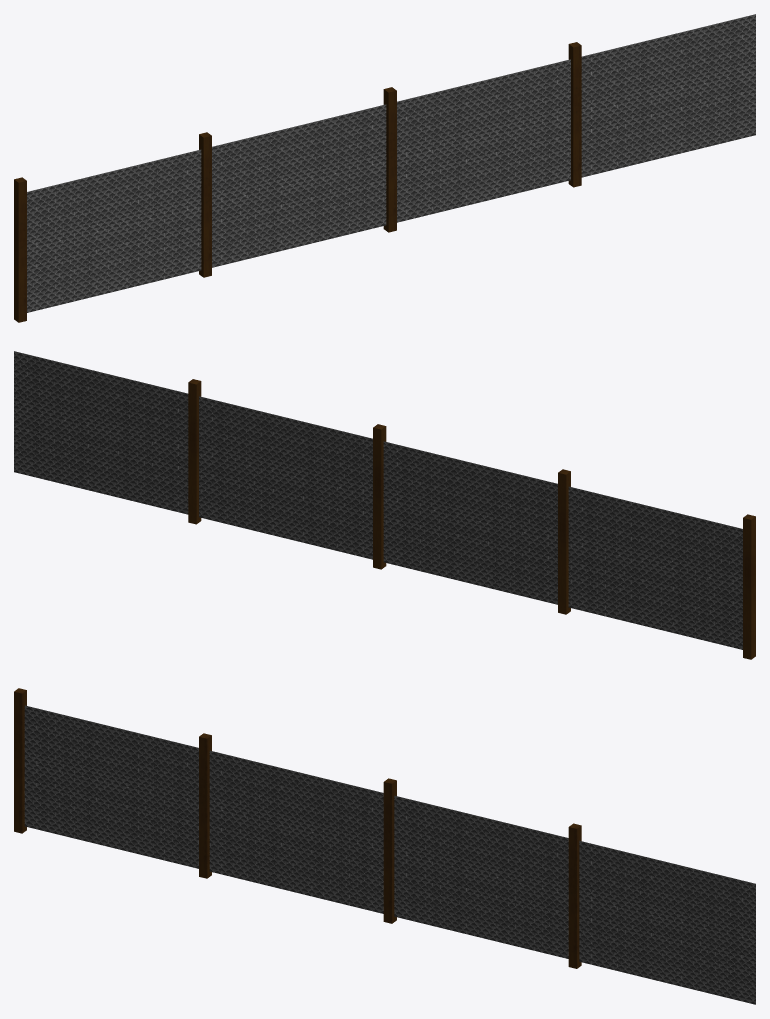
The model's file is Fence.fbx.
3 renders of one model, top to bottom at view 1: azimuth 30°, elevation 25°; view 2: azimuth 150°, elevation 25°; view 3: azimuth 330°, elevation 25°, orthographic.
Visible parts, largest first — view 1: Fence4; view 2: Fence4; view 3: Fence4.
Part boxes in pixels (x1,y1,x2,y2): Fence4: [14, 14, 755, 322]; Fence4: [14, 351, 755, 659]; Fence4: [14, 688, 755, 1004].
Bounding box in the file's own units: 34.81 × 6.3 × 0.3901.
